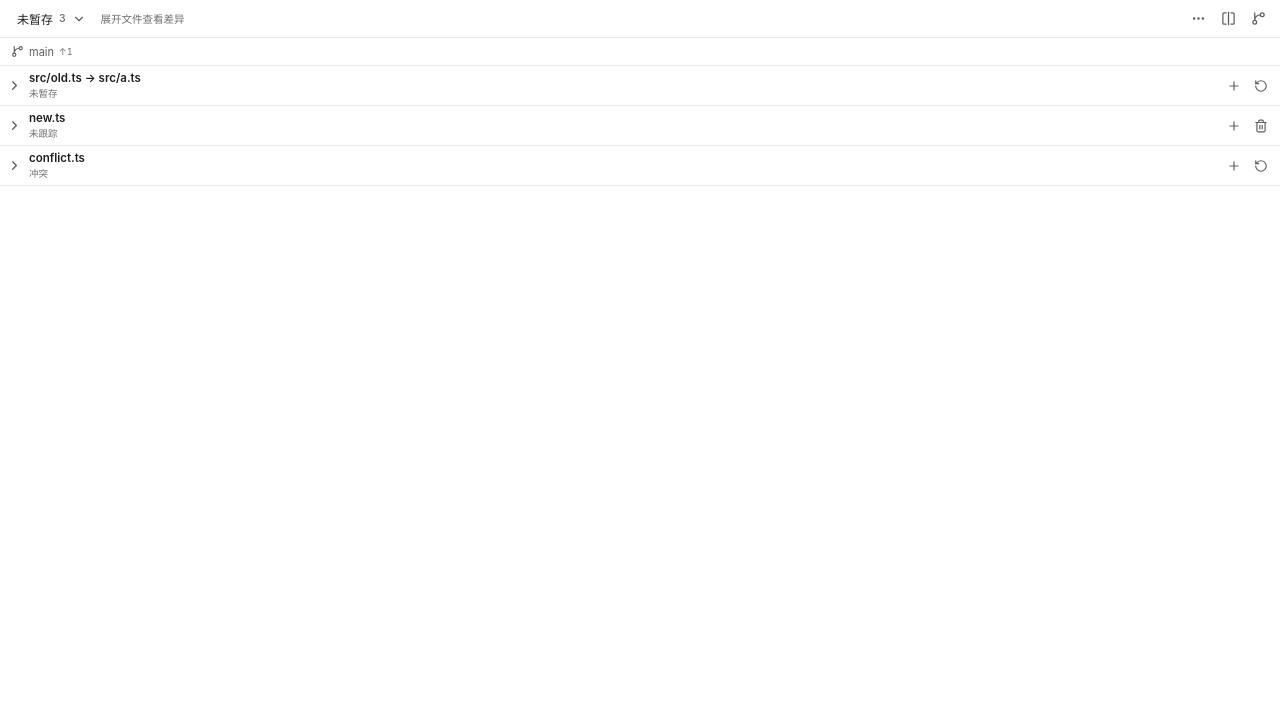
GitReviewPanel › 提交成功后即关闭对话框，后续推送失败不会重复提交
Expected: the text "main" is shown, x1=29 y1=44 x2=54 y2=58
Click the button named "Git 操作" at (1258, 18), box x1=1244 y1=4 x2=1272 y2=32
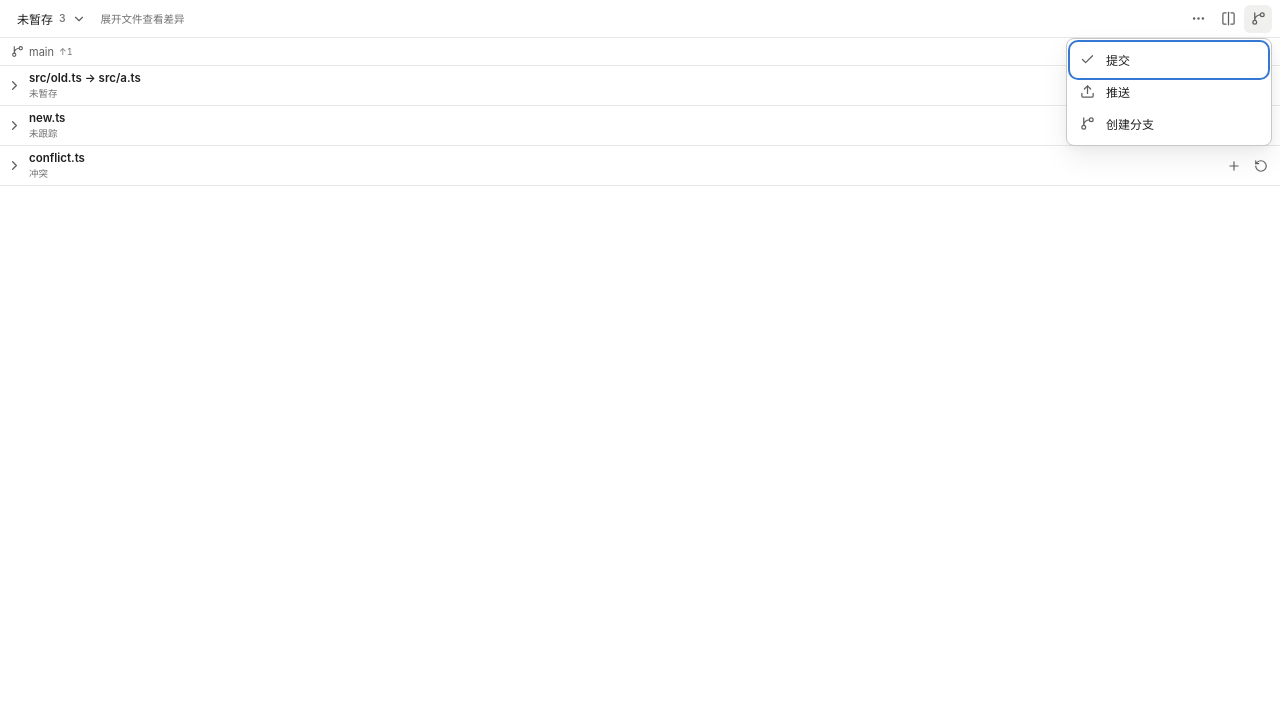
Click the menu item "提交" at (1169, 60), box x1=1072 y1=44 x2=1266 y2=76
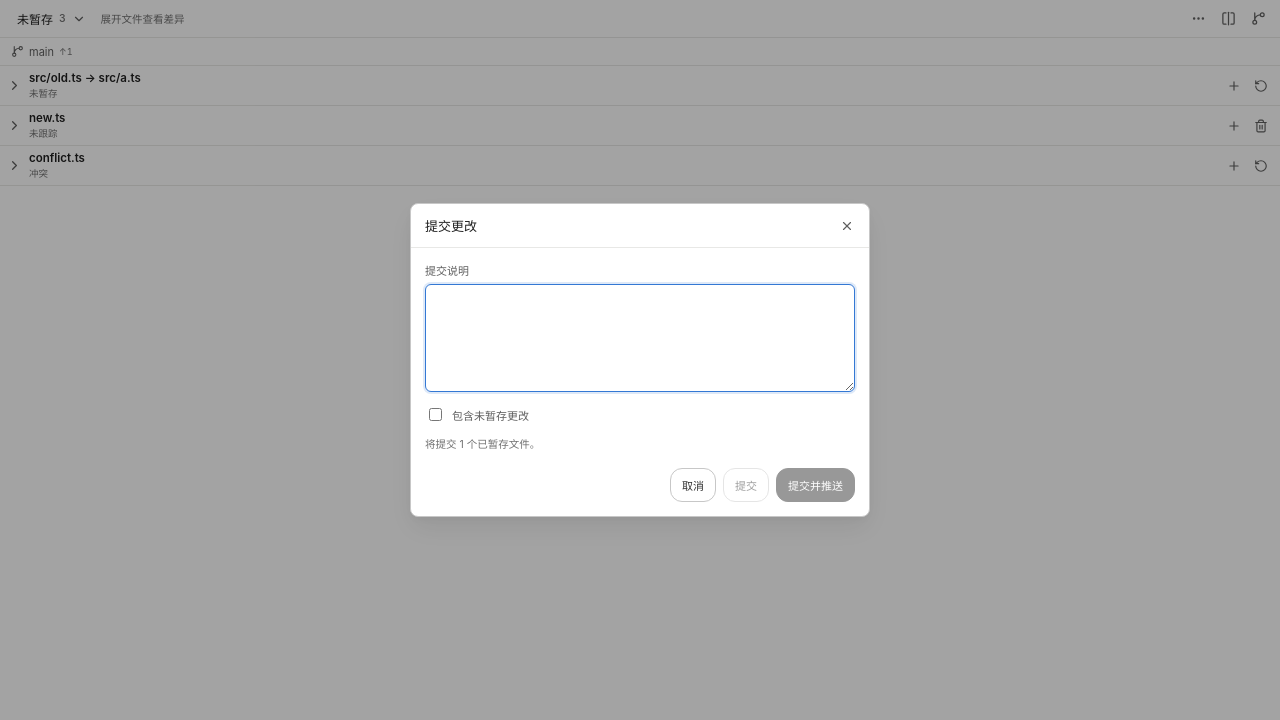
Type "fix: one commit" into the text box labelled "提交说明" at (640, 338), box x1=425 y1=284 x2=855 y2=392
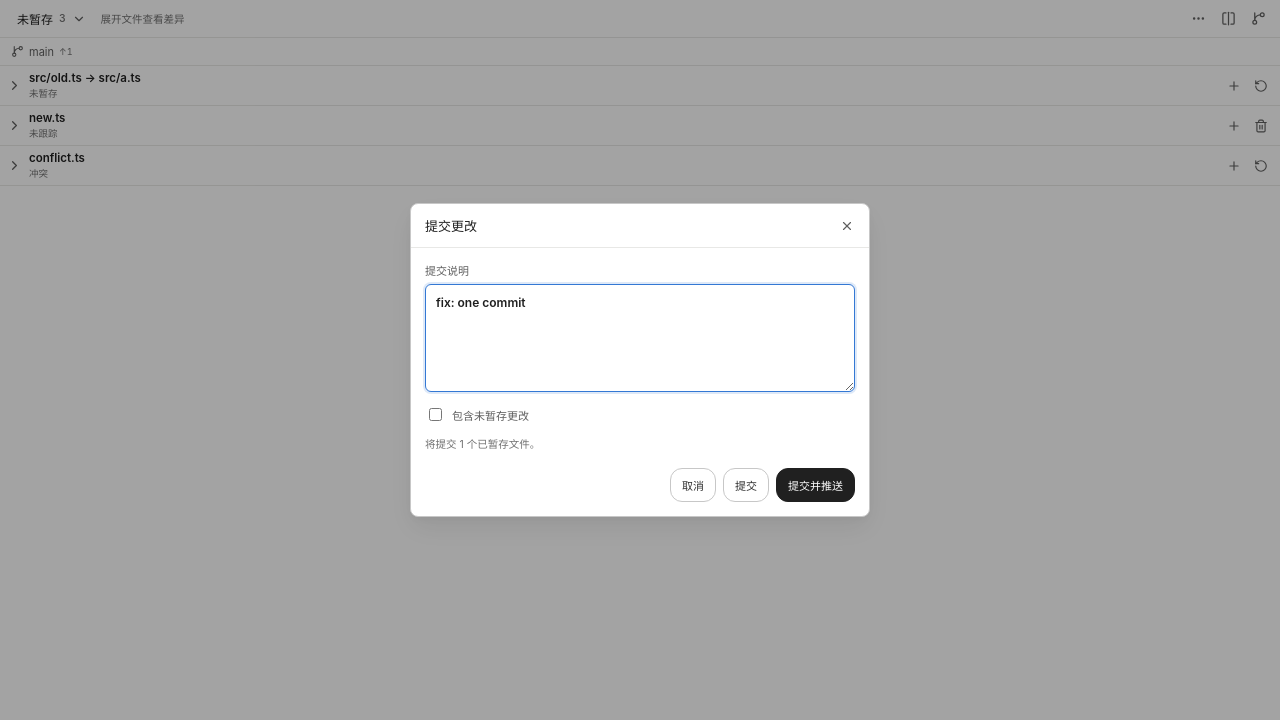
Click the button "提交并推送" at (816, 485), box x1=776 y1=468 x2=855 y2=502
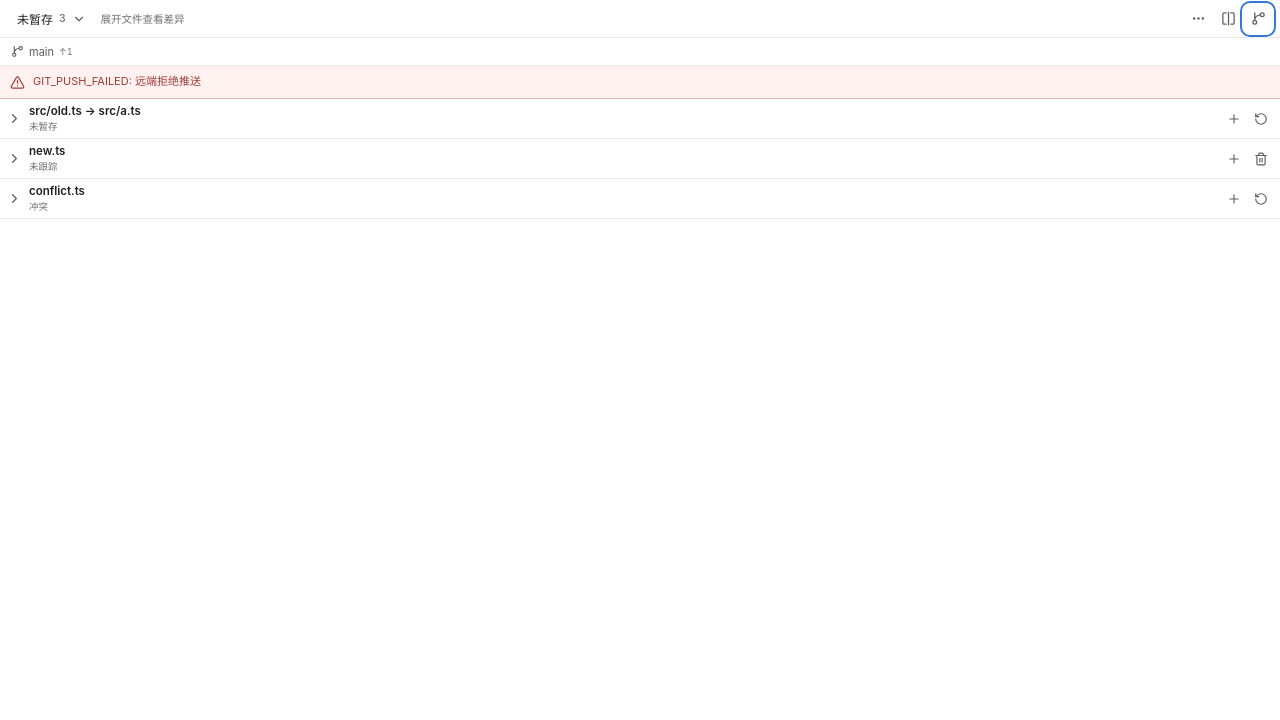
Now the heading "提交更改" is gone
Now the message reads "GIT_PUSH_FAILED: 远端拒绝推送", box x1=33 y1=74 x2=201 y2=88
